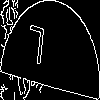L: (25, 24, 46, 75)
